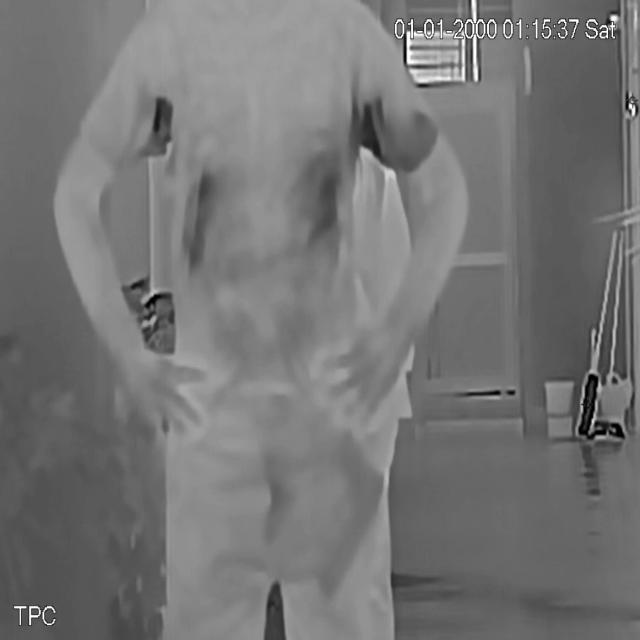Weapon: (304, 426, 398, 616)
